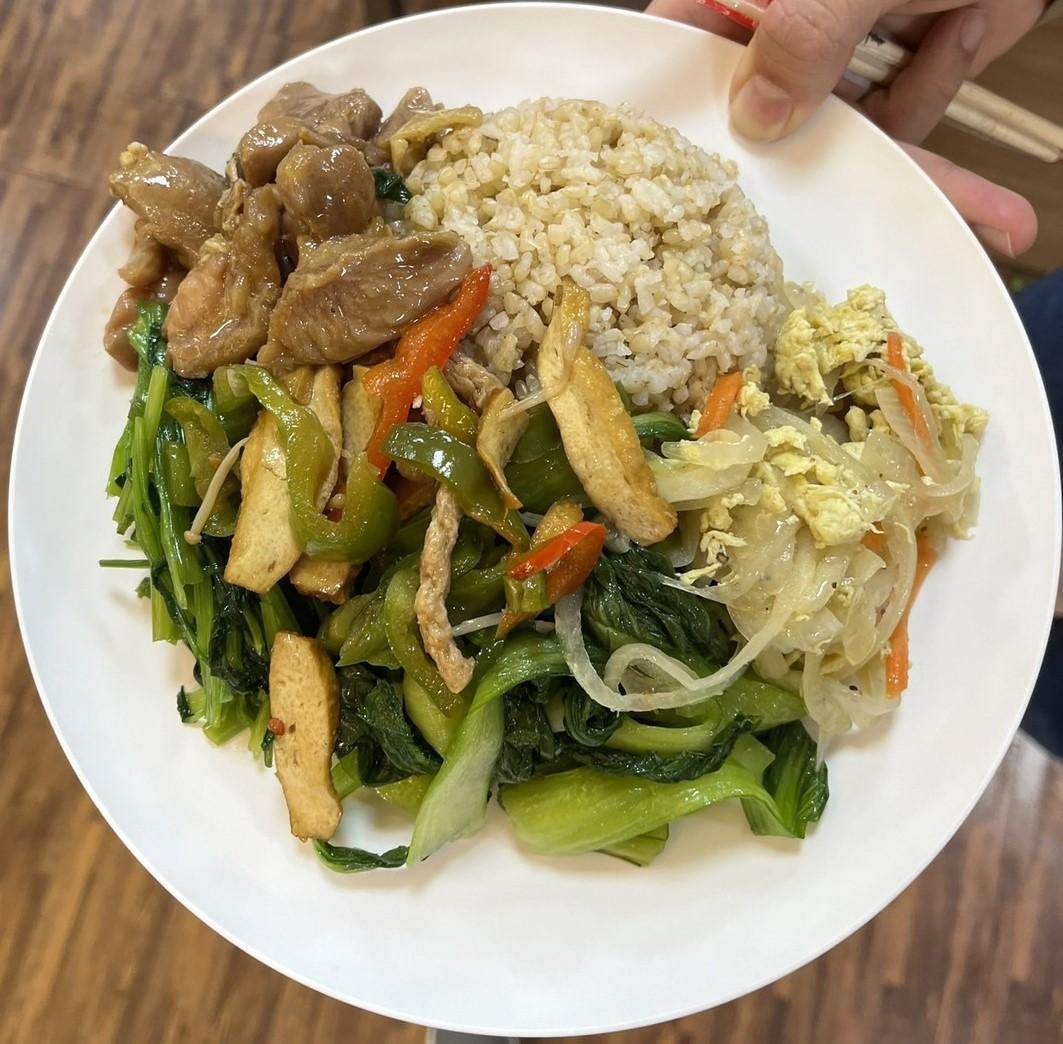big fried chicken leg: (13, 0, 1063, 1026)
box: (423, 100, 786, 417)
braised fish fillet: (220, 311, 678, 857), (346, 535, 804, 871), (678, 293, 978, 721), (106, 345, 276, 739)
braised pork: (100, 58, 448, 383)
